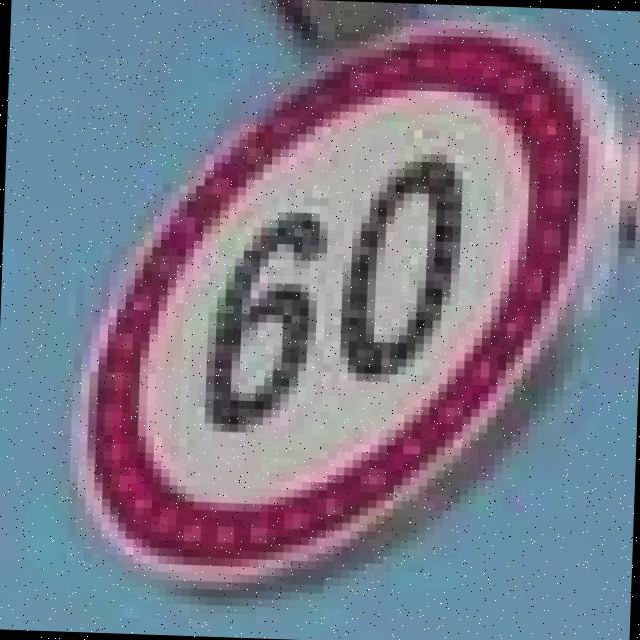Ograniczenie predkosci do 60: (57, 6, 617, 602)
